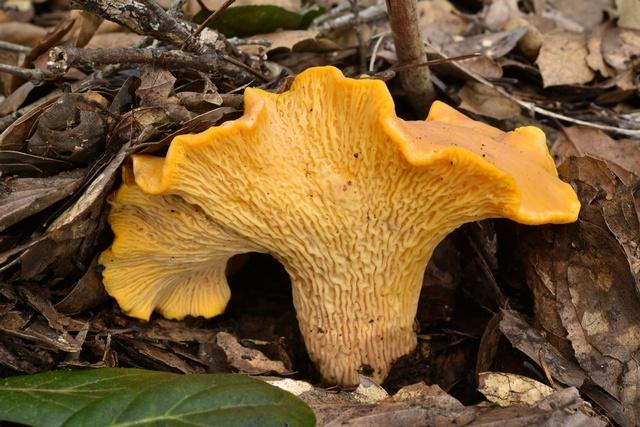edible_mushroom: (97, 64, 581, 392)
